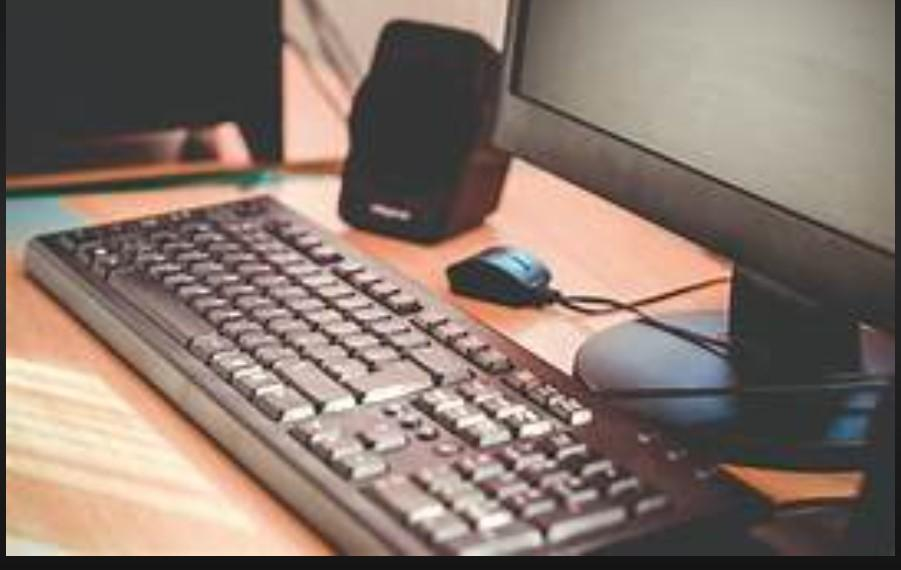Keyboard: (21, 195, 741, 557)
